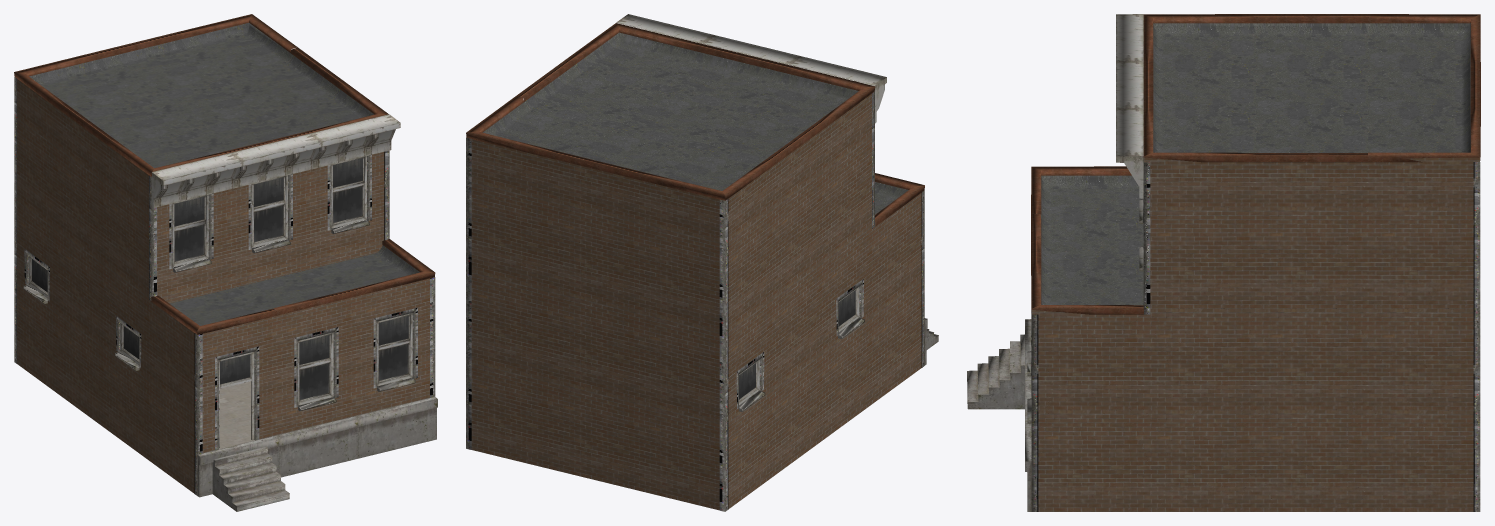
Rendered from rowhouse_2st_9x12-2-brown variant.glb.
3 renders of one model, left to right at view 1: azimuth 30°, elevation 25°; view 2: azimuth 150°, elevation 25°; view 3: azimuth 270°, elevation 25°, orthographic. The views are drawn at different scales.
Visible parts, largest first — view 1: rowhouse_2st_9x12-2_LOD0; view 2: rowhouse_2st_9x12-2_LOD0; view 3: rowhouse_2st_9x12-2_LOD0.
Part boxes in pixels (<box>): rowhouse_2st_9x12-2_LOD0: <box>14,14,437,511</box>; rowhouse_2st_9x12-2_LOD0: <box>466,14,938,511</box>; rowhouse_2st_9x12-2_LOD0: <box>967,14,1480,511</box>.
Bounding box in the file's own units: 9.13 × 10.51 × 13.76.
Materials: 7 (7 with a texture image).
